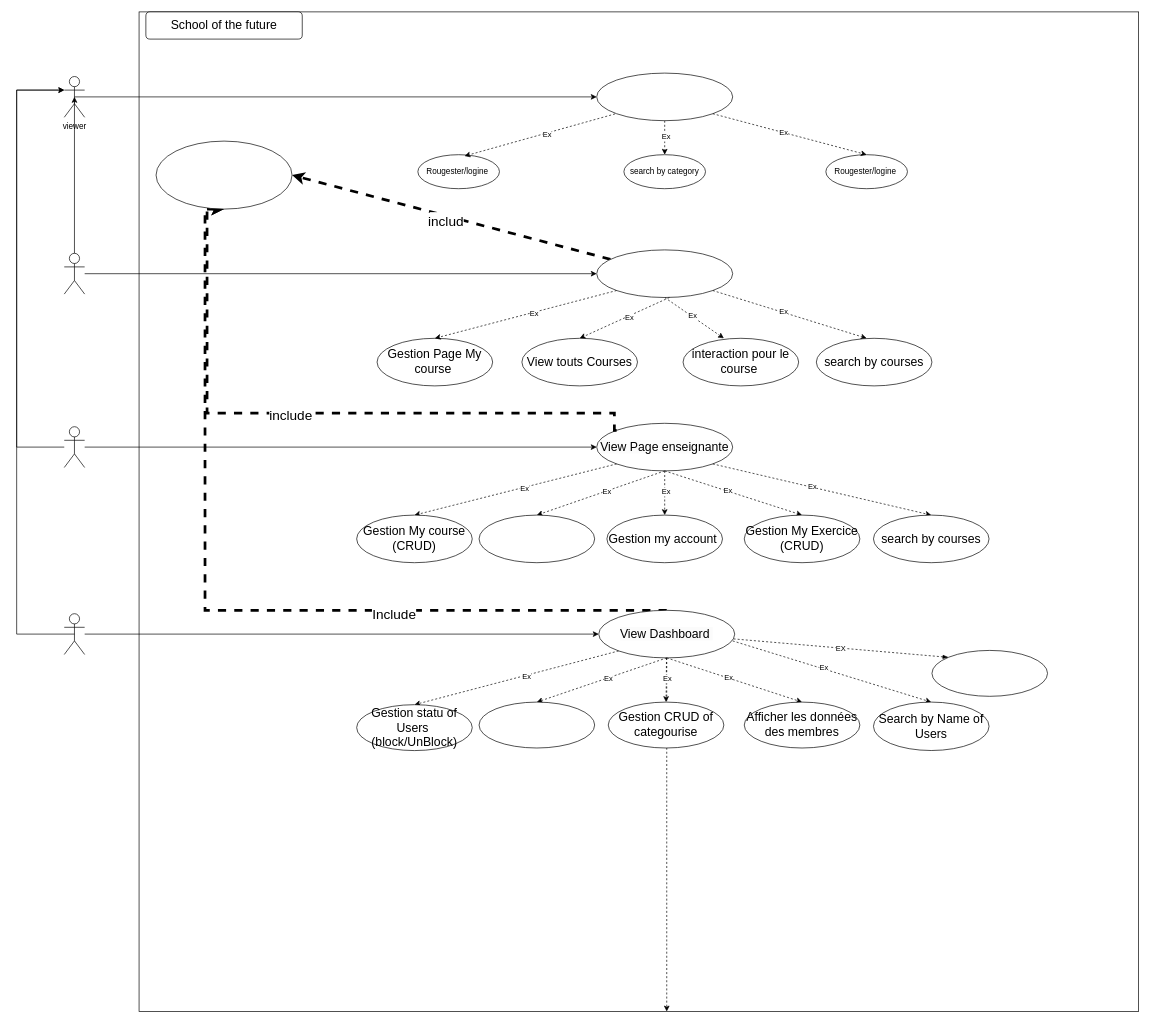
The diagram is 1151 pixels wide and 1029 high, and some of its shapes have lost their labels. The shapes that lost their labels are listed below. From the top down, each one's centre as x and y in pixels, then its label:
the point at 664,96: View Home Page /
the point at 223,174: AuthLogin
the point at 74,273: User
the point at 664,273: View Page Etudent
the point at 74,447: Enseignante
the point at 536,538: View static of chanel
the point at 74,633: Admine
the point at 989,673: Gestion des offres
the point at 536,724: Gestion CRUD of Tags
